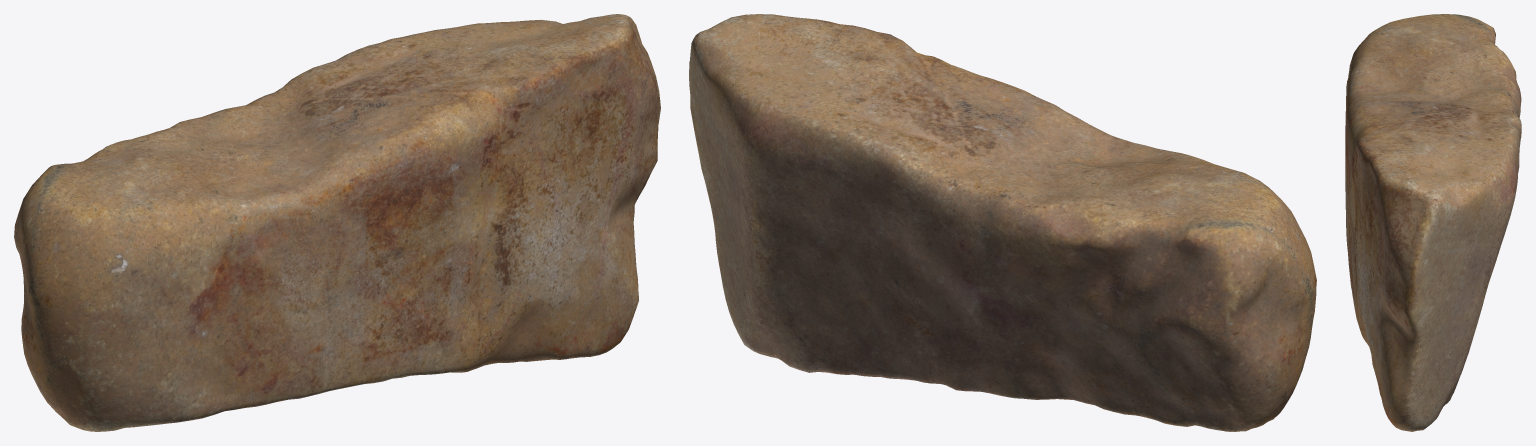
The model's file is MTY000638.glb.
The picture shows the model from 3 angles, left to right: view 1: azimuth 30°, elevation 25°; view 2: azimuth 150°, elevation 25°; view 3: azimuth 270°, elevation 25°; orthographic projection. The views are drawn at different scales.
Visible parts, largest first — view 1: MTY000638; view 2: MTY000638; view 3: MTY000638.
Boxes of the visible parts, x1,y1,x2,y2 form: MTY000638: (14,14,660,431); MTY000638: (689,14,1316,431); MTY000638: (1345,14,1521,431).
Size of the model in its own units: 42.25 by 20.83 by 12.97.
1 material, 1 textured.
